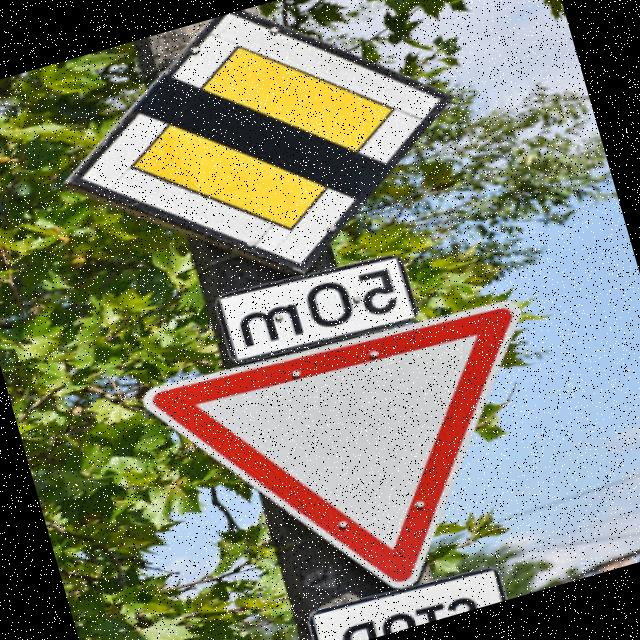give_way: (120, 269, 617, 640)
